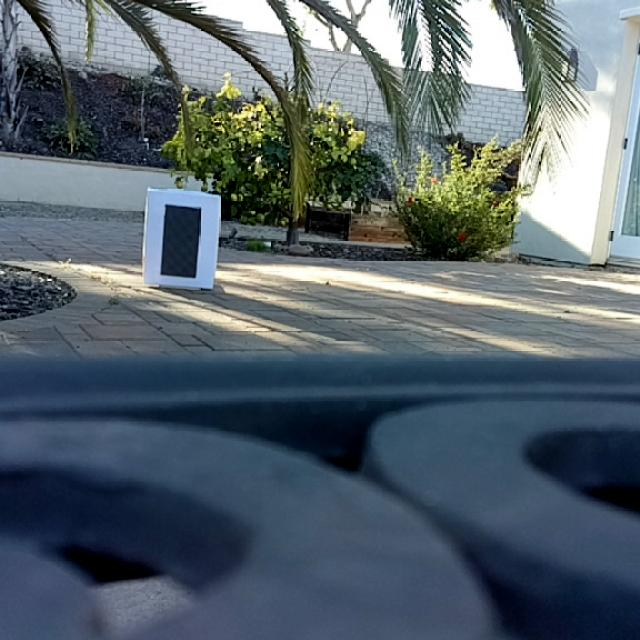led: (161, 204, 200, 280)
